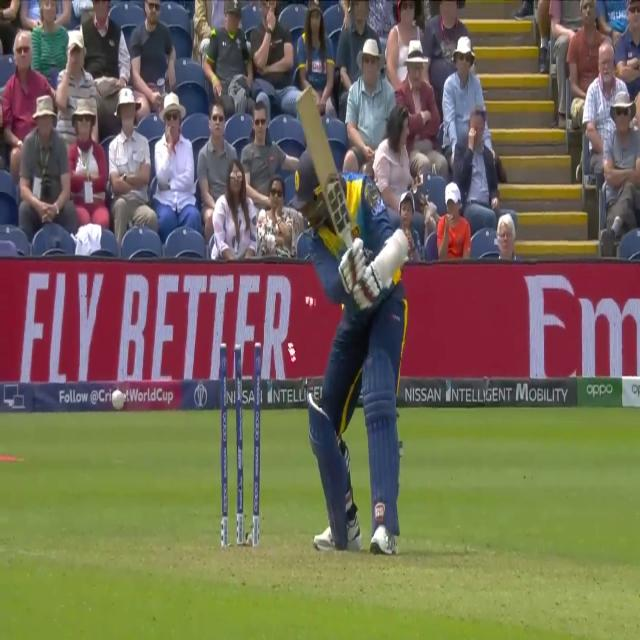ball: (107, 382, 129, 419)
